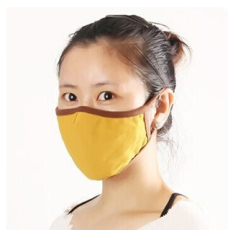face_mask: (55, 45, 148, 178)
